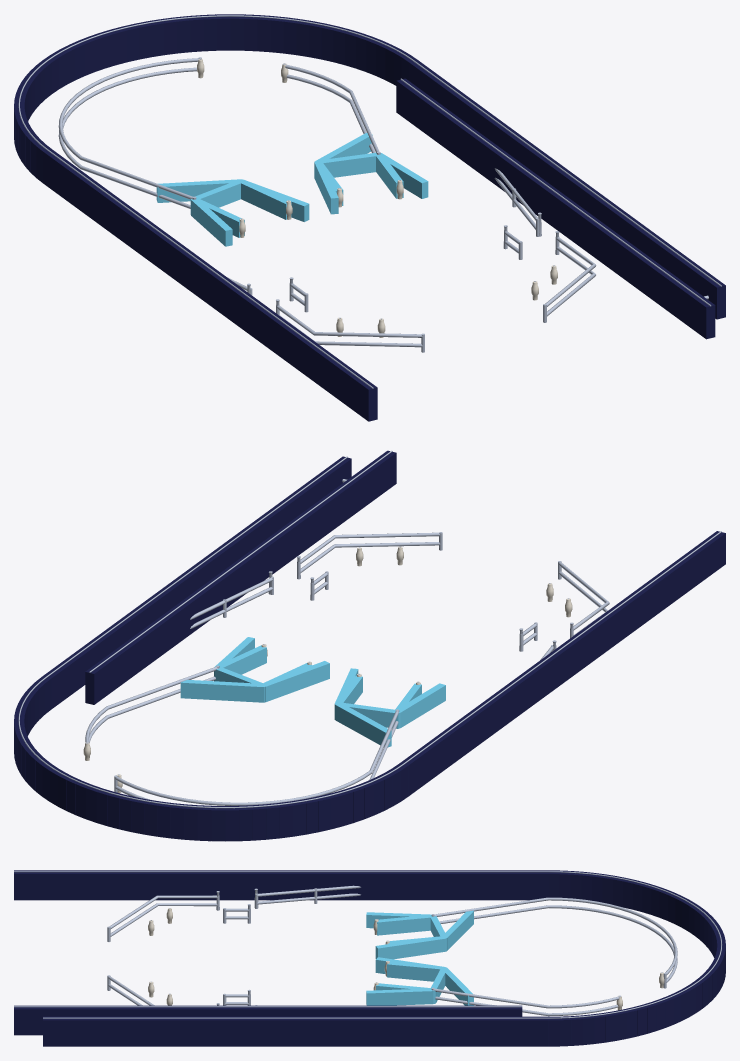
The model's file is Space_Guides.glb.
3 views of the same model, one above another, from view 1: azimuth 30°, elevation 25°; view 2: azimuth 150°, elevation 25°; view 3: azimuth 270°, elevation 25° (orthographic). The views are drawn at different scales.
Visible parts, largest first — view 1: Guides_Wood, Guides_Plastic, Guides_Metal, Deco_RailCrests, Posts_Rubber; view 2: Guides_Wood, Guides_Plastic, Guides_Metal, Deco_RailCrests, Posts_Rubber; view 3: Guides_Wood, Guides_Plastic, Guides_Metal, Deco_RailCrests, Posts_Rubber.
Part boxes in pixels (x1,y1,x2,y2): Guides_Wood: (14,14,725,421); Guides_Plastic: (156,132,428,246); Guides_Metal: (58,57,708,352); Deco_RailCrests: (18,15,721,388); Posts_Rubber: (197,58,557,337); Guides_Wood: (14,450,725,841); Guides_Plastic: (180,637,445,747); Guides_Metal: (85,479,609,805); Deco_RailCrests: (18,450,721,808); Posts_Rubber: (83,546,572,793); Guides_Wood: (14,870,725,1046); Guides_Plastic: (366,910,473,1005); Guides_Metal: (107,885,677,1016); Deco_RailCrests: (14,871,721,1018); Posts_Rubber: (148,908,664,1010).
Size of the model in its own units: 0.6888 by 0.058 by 1.38.
